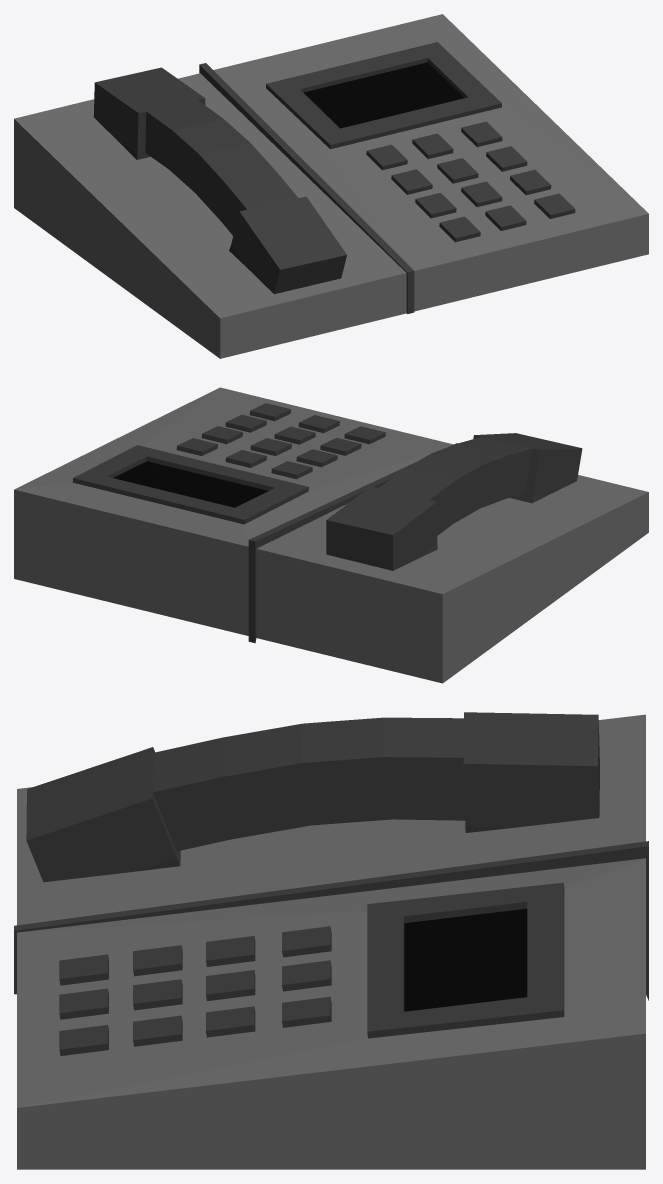
Rendered from P_Phone.fbx.
The picture shows the model from 3 angles, top to bottom: view 1: azimuth 30°, elevation 25°; view 2: azimuth 150°, elevation 25°; view 3: azimuth 270°, elevation 25°; orthographic projection. The views are drawn at different scales.
Parts seen in each view (by area): view 1: P_Phone; view 2: P_Phone; view 3: P_Phone.
Boxes of the visible parts, <box> form: P_Phone: <box>14,14,648,358</box>; P_Phone: <box>14,387,648,683</box>; P_Phone: <box>14,712,648,1169</box>.
Bounding box in the file's own units: 203 × 170 × 57.45.
